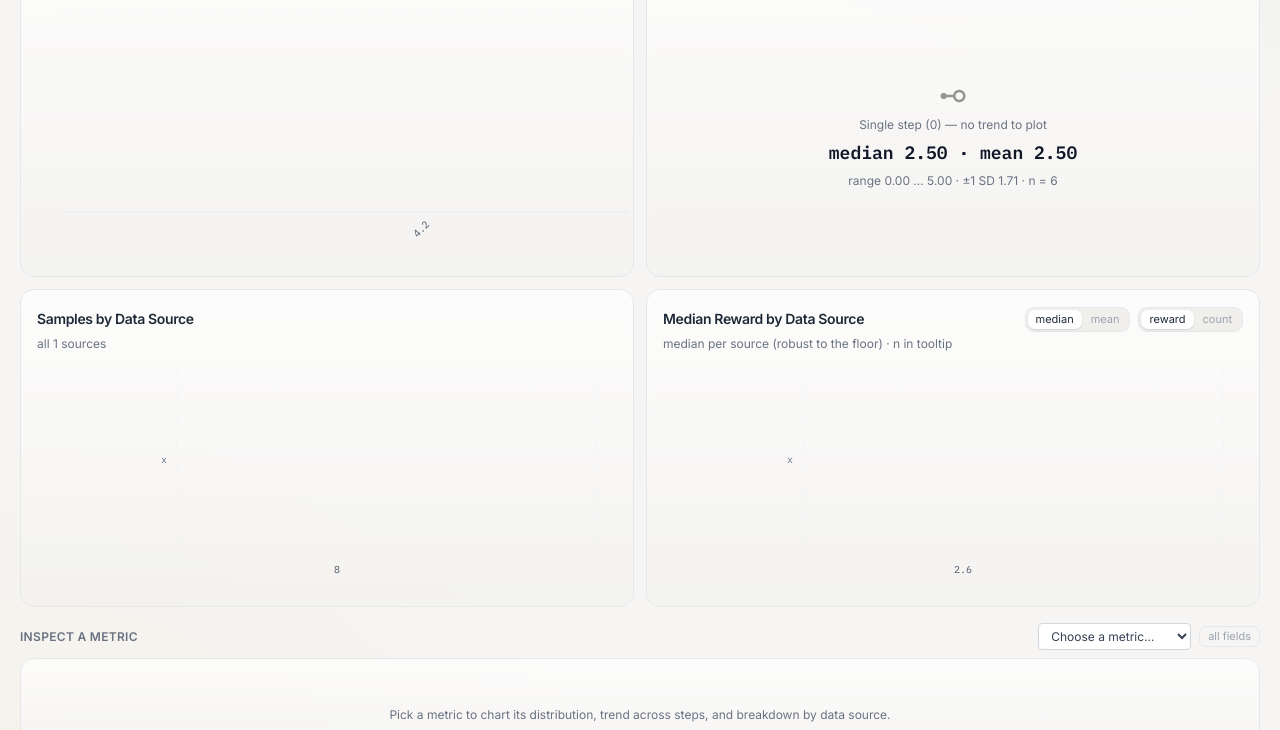
Scenario: AnalysisView › offers a metric inspector and charts a selected categorical metric
This screenshot has width=1280, height=730.
(page scrolled)
Expected: the heading "Inspect a Metric" is shown, [20,628,138,644]
Select "score_value" in the dropdown at (1115, 636), box [1038,623,1191,650]
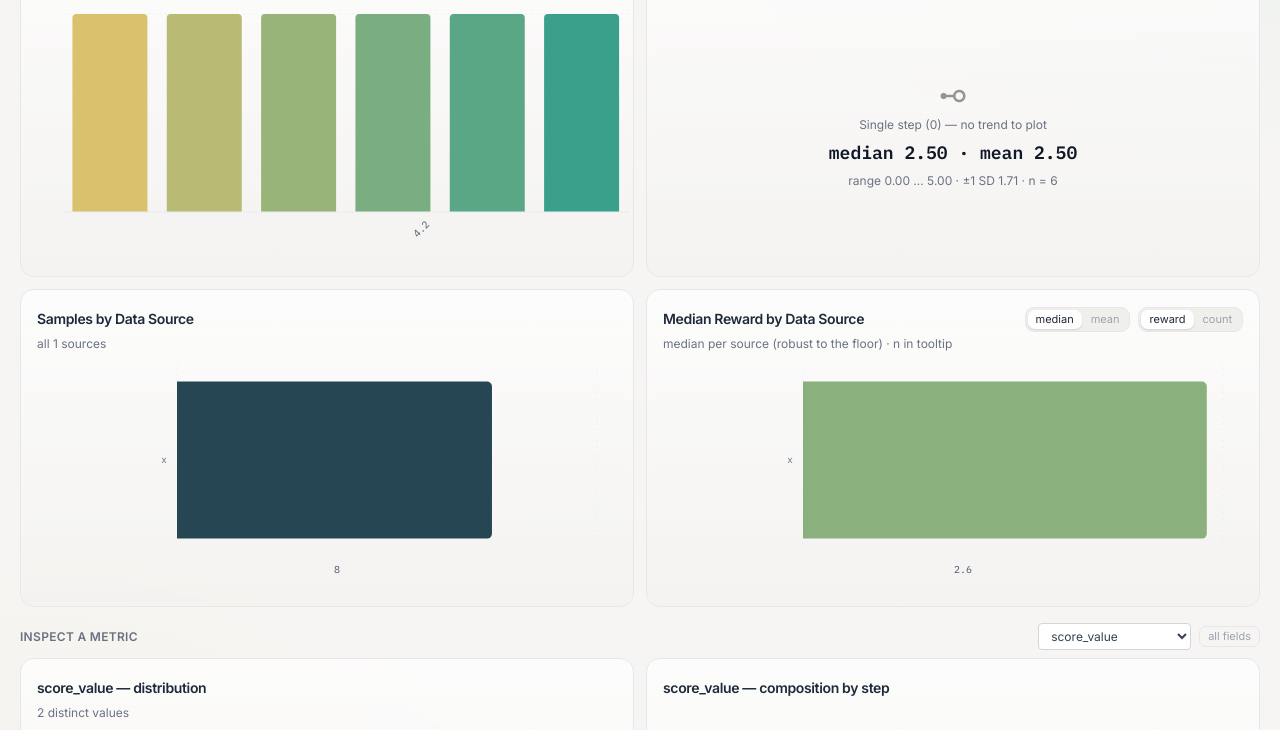
Expected: the heading "score_value — distribution" is shown, [37,678,206,698]
Expected: the heading "score_value — composition by step" is shown, [663,678,889,698]
